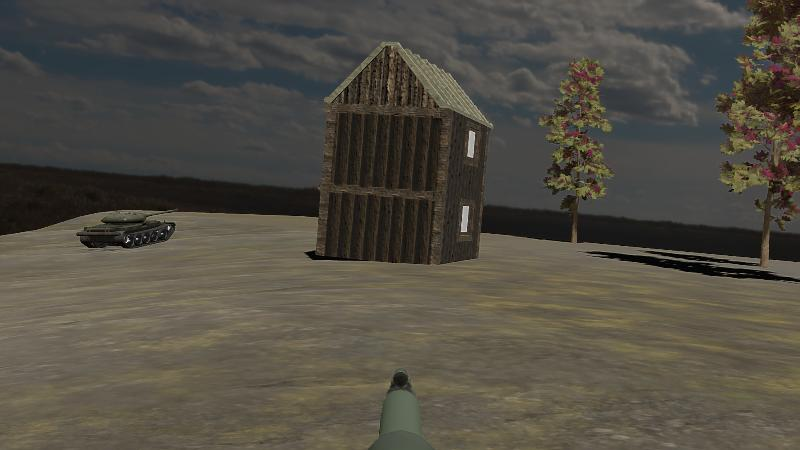House: (318, 41, 493, 265)
Tank: (72, 207, 180, 252)
